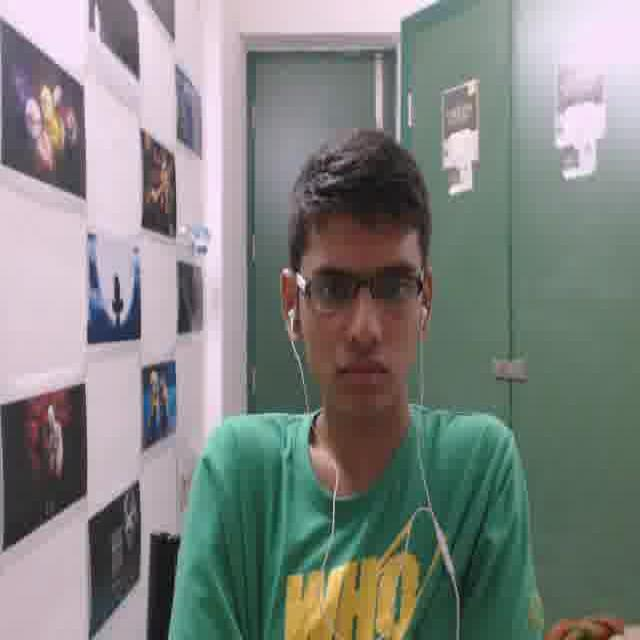Boredom: (304, 217, 423, 420)
